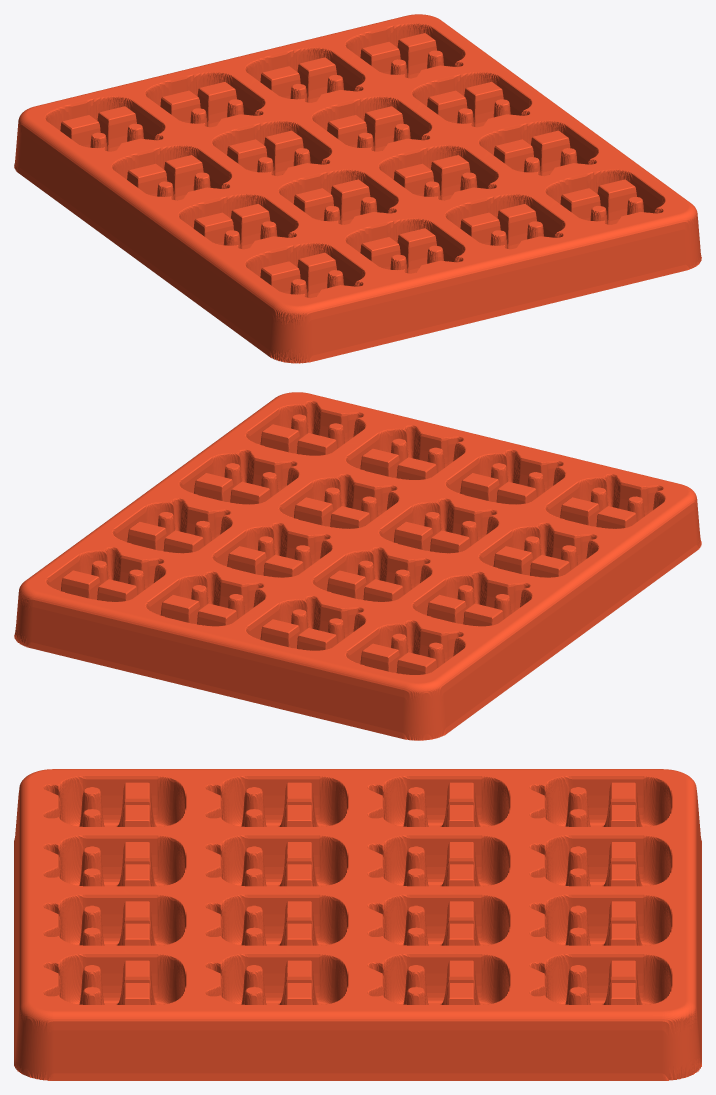
The model's file is mold.glb.
The picture shows the model from 3 angles, top to bottom: view 1: azimuth 30°, elevation 25°; view 2: azimuth 150°, elevation 25°; view 3: azimuth 270°, elevation 25°; orthographic projection. The views are drawn at different scales.
Parts seen in each view (by area): view 1: geometry_0; view 2: geometry_0; view 3: geometry_0.
Boxes of the visible parts, <box> form: geometry_0: <box>14,14,701,363</box>; geometry_0: <box>14,392,701,740</box>; geometry_0: <box>14,769,701,1080</box>.
Size of the model in its own units: 0.1371 by 0.0159 by 0.1569.
